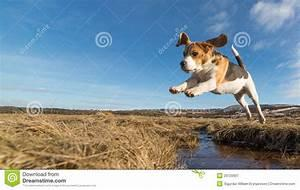dog: (168, 31, 266, 124)
